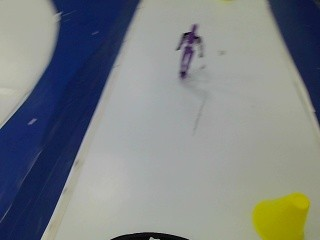cone: (246, 181, 317, 238)
pedestrian: (171, 17, 213, 80)
